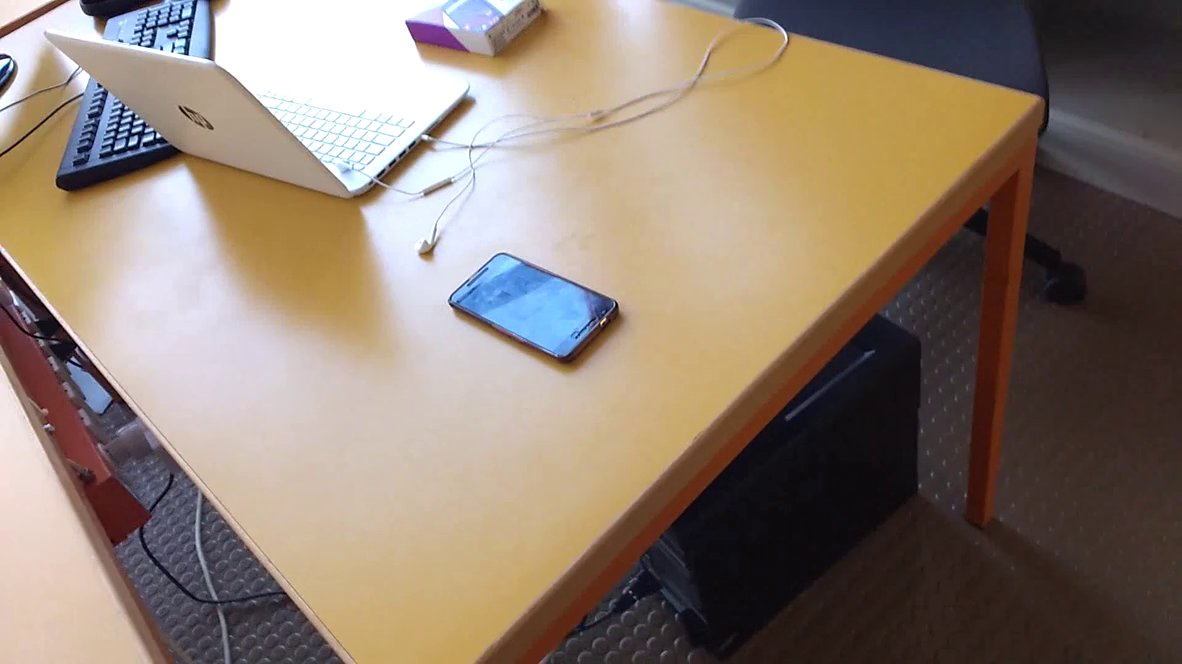laptop: (35, 21, 478, 211)
phone: (439, 242, 639, 379)
